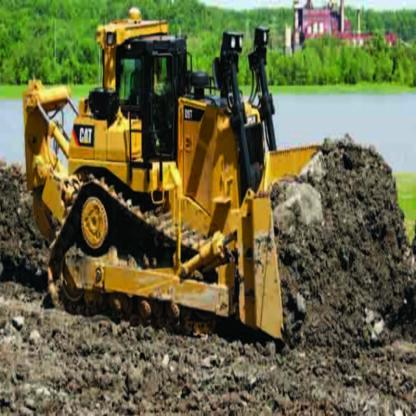bull_dozer/loader/grader: (13, 10, 416, 391)
